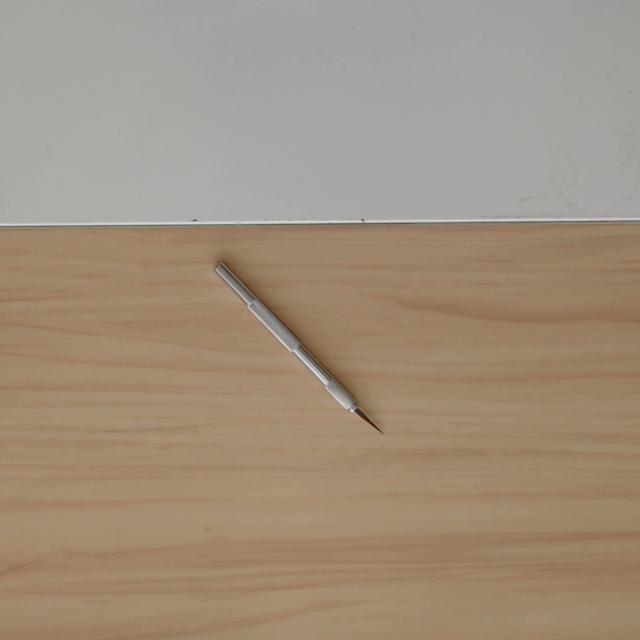Cutter-Kecil: (211, 260, 386, 441)
